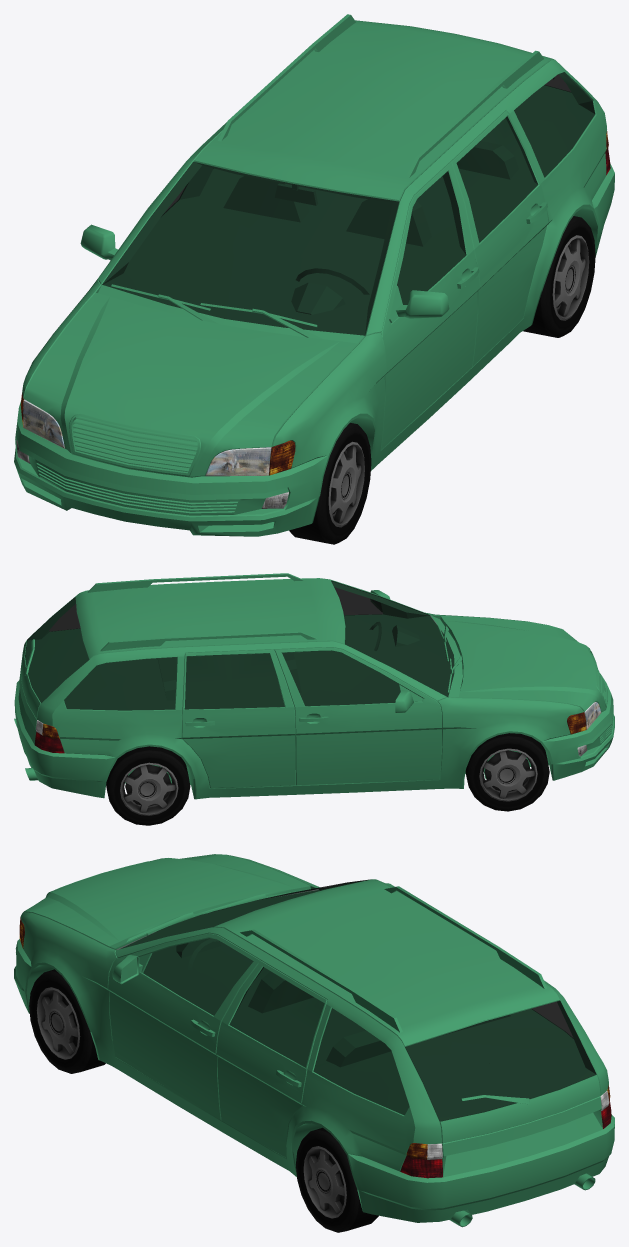
The model's file is traffic_wagon.glb.
3 renders of one model, top to bottom at view 1: azimuth 30°, elevation 25°; view 2: azimuth 150°, elevation 25°; view 3: azimuth 270°, elevation 25°, orthographic. The views are drawn at different scales.
Parts seen in each view (by area): view 1: wagon_c_body, wagon_c_glass, wagon_c_wheel_1, wagon_c_wheel_3, wagon_c_optics; view 2: wagon_c_body, wagon_c_glass, wagon_c_wheel_2, wagon_c_wheel_0, wagon_c_optics; view 3: wagon_c_body, wagon_c_glass, wagon_c_wheel_3, wagon_c_wheel_1, wagon_c_optics.
Boxes of the visible parts, x1,y1,x2,y2 form: wagon_c_body: [14, 14, 614, 536]; wagon_c_glass: [102, 73, 594, 335]; wagon_c_wheel_1: [289, 422, 371, 544]; wagon_c_wheel_3: [523, 216, 595, 337]; wagon_c_optics: [16, 131, 610, 508]; wagon_c_body: [14, 573, 614, 799]; wagon_c_glass: [25, 580, 454, 710]; wagon_c_wheel_2: [106, 746, 190, 825]; wagon_c_wheel_0: [465, 733, 549, 811]; wagon_c_optics: [34, 702, 601, 756]; wagon_c_body: [14, 854, 614, 1227]; wagon_c_glass: [117, 879, 596, 1121]; wagon_c_wheel_3: [296, 1127, 378, 1232]; wagon_c_wheel_1: [29, 969, 105, 1073]; wagon_c_optics: [19, 917, 611, 1178].
Bounding box in the file's own units: 4.09 × 1.38 × 3.43.
7 materials, 5 textured.
